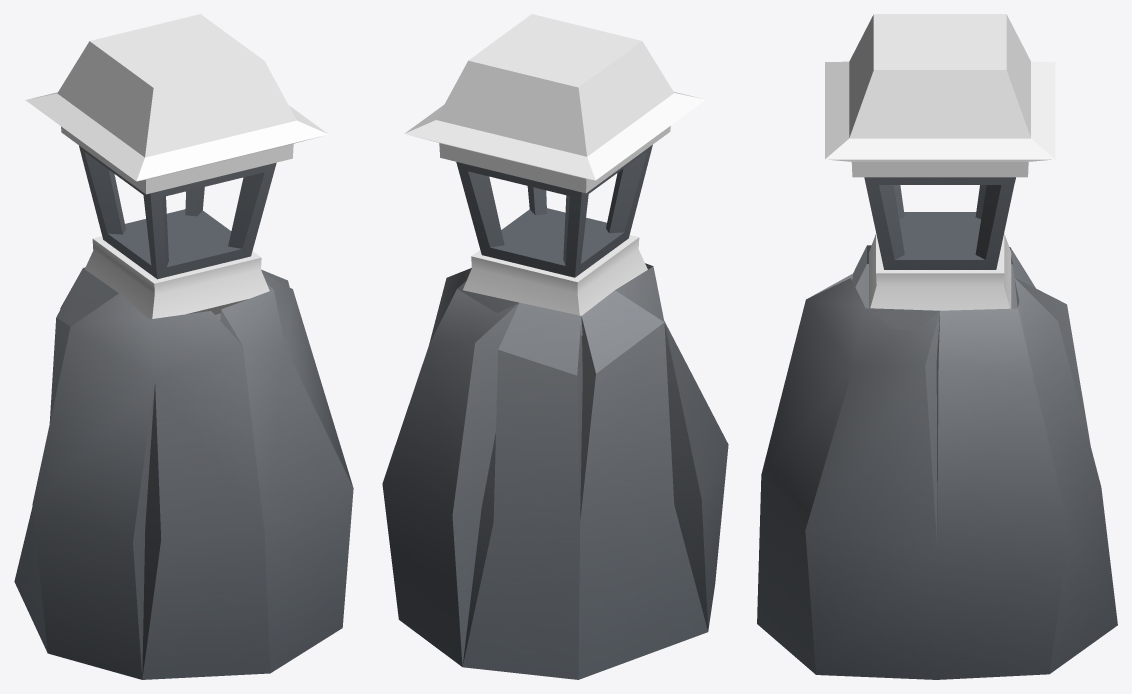
The model's file is farola2.fbx.
3 views of the same model, side by side, from view 1: azimuth 30°, elevation 25°; view 2: azimuth 150°, elevation 25°; view 3: azimuth 270°, elevation 25° (orthographic). The views are drawn at different scales.
Visible parts, largest first — view 1: FarolaPrueba3; view 2: FarolaPrueba3; view 3: FarolaPrueba3.
Part boxes in pixels (left/top/right/bottom): FarolaPrueba3: left=14, top=14, right=353, bottom=679; FarolaPrueba3: left=382, top=14, right=728, bottom=679; FarolaPrueba3: left=757, top=14, right=1117, bottom=679.
Size of the model in its own units: 246 by 447 by 252.
